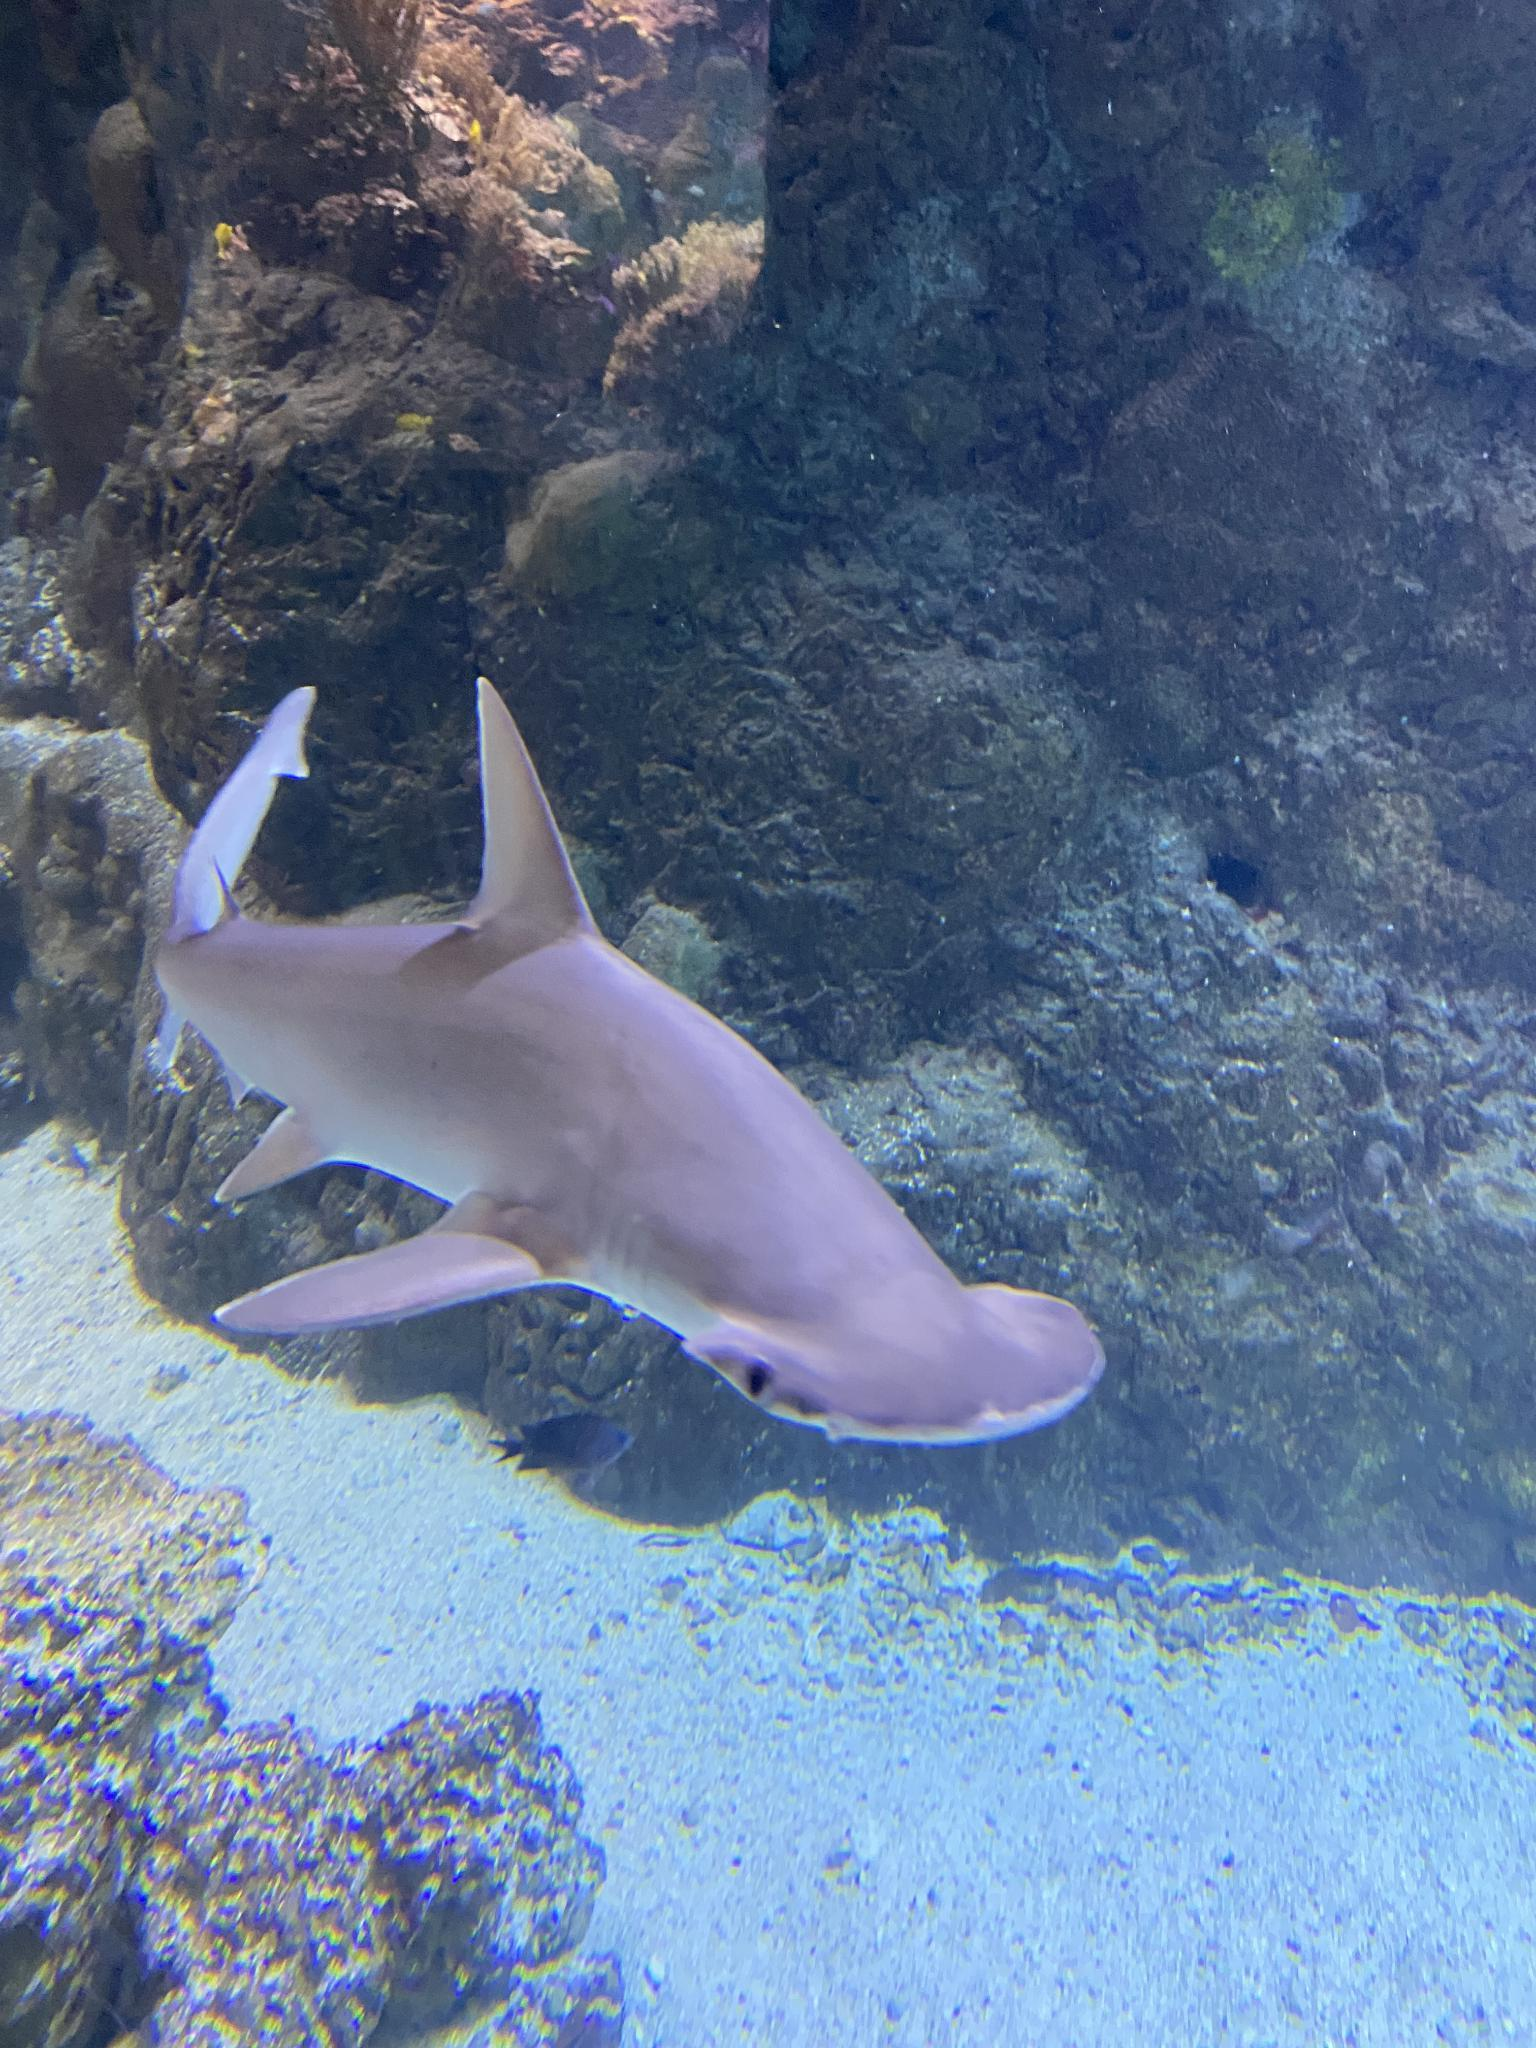shark: (153, 674, 1105, 1485)
